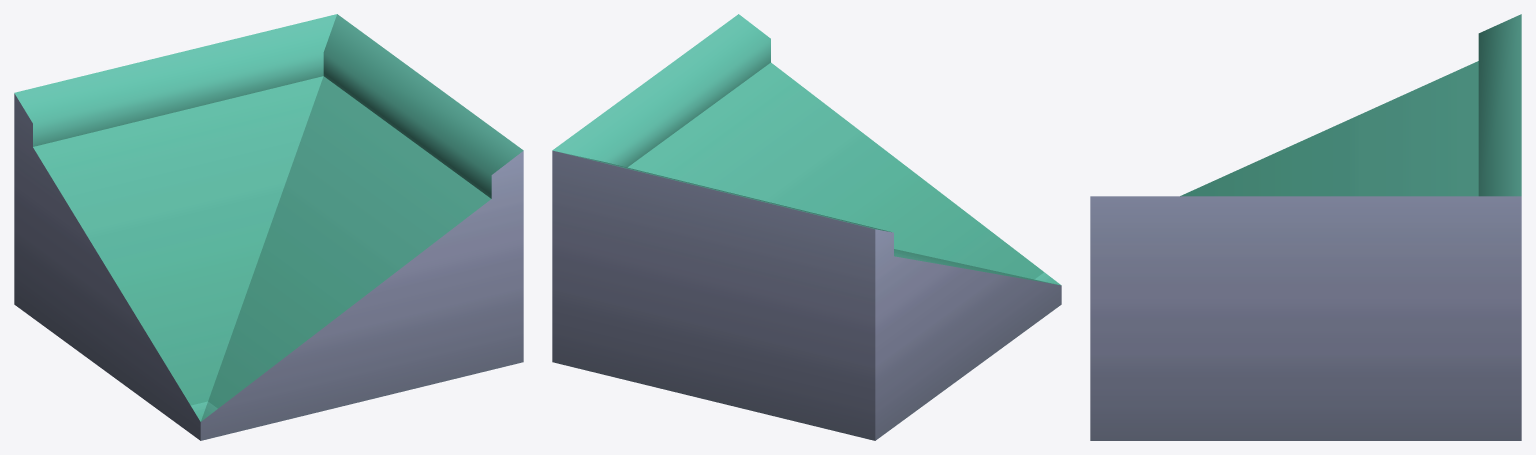
Rendered from roof-corner-inner.glb.
3 renders of one model, left to right at view 1: azimuth 30°, elevation 25°; view 2: azimuth 150°, elevation 25°; view 3: azimuth 270°, elevation 25°, orthographic. The views are drawn at different scales.
Parts seen in each view (by area): view 1: roof-corner-inner; view 2: roof-corner-inner; view 3: roof-corner-inner.
Part boxes in pixels (box(x1,y1,x2,y2)): roof-corner-inner: box(14, 14, 523, 440); roof-corner-inner: box(552, 14, 1061, 440); roof-corner-inner: box(1090, 14, 1521, 440).
Bounding box in the file's own units: 1 × 0.6259 × 1.
Materials: 1 (1 with a texture image).
